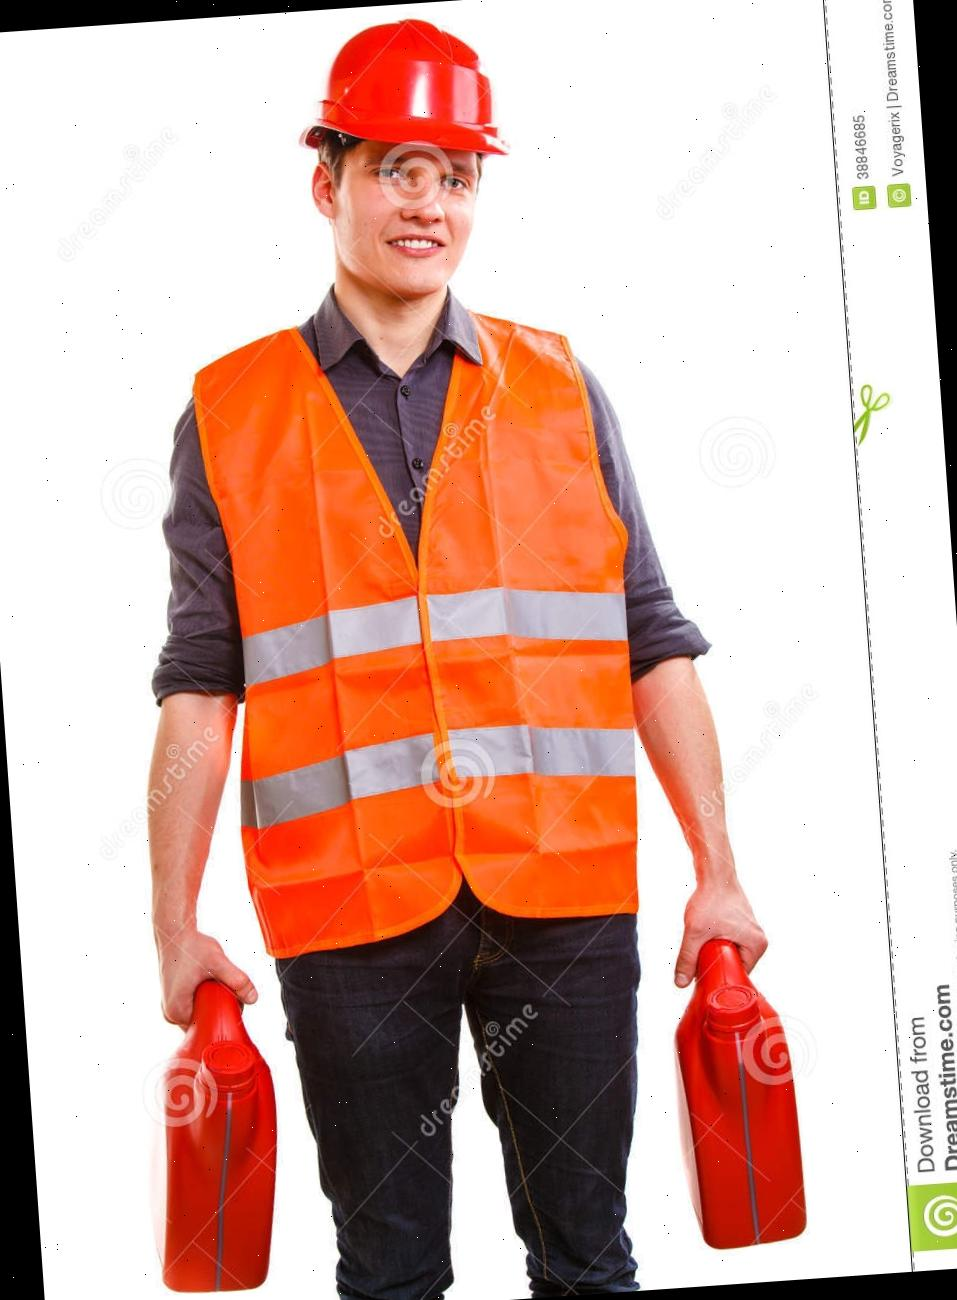helmet: (288, 11, 513, 178)
wear: (193, 310, 638, 960)
